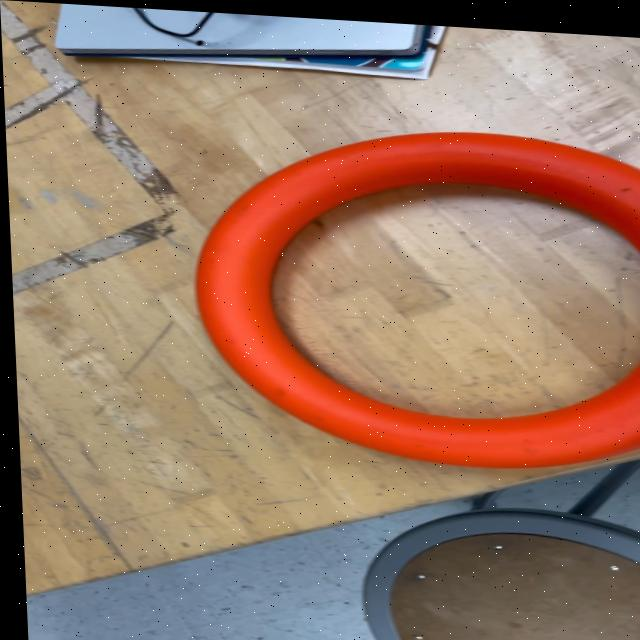note: (182, 110, 640, 470)
